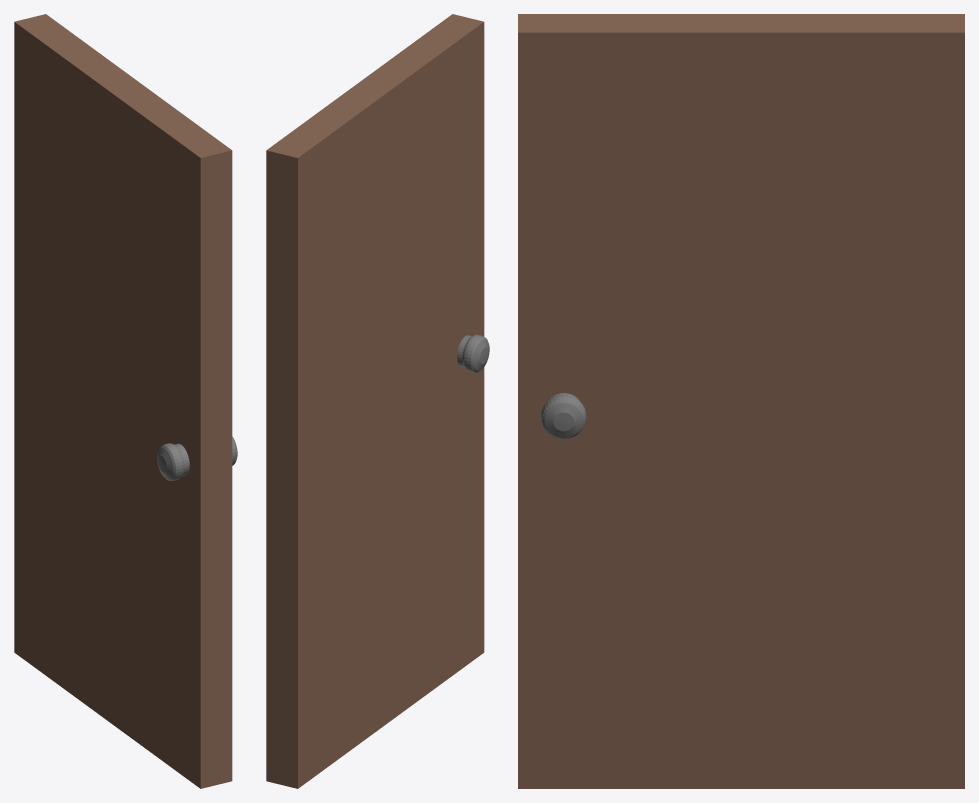
Rendered from door.fbx.
3 views of the same model, side by side, from view 1: azimuth 30°, elevation 25°; view 2: azimuth 150°, elevation 25°; view 3: azimuth 270°, elevation 25° (orthographic). The views are drawn at different scales.
Parts seen in each view (by area): view 1: Cube, Cylinder.001; view 2: Cube, Cylinder.001; view 3: Cube, Cylinder.001.
Part boxes in pixels (left/top/right/bottom): Cube: left=14, top=14, right=232, bottom=788; Cylinder.001: left=157, top=436, right=237, bottom=480; Cube: left=266, top=14, right=484, bottom=788; Cylinder.001: left=457, top=334, right=489, bottom=372; Cube: left=518, top=14, right=964, bottom=788; Cylinder.001: left=541, top=393, right=586, bottom=438.
Bounding box in the file's own units: 94.34 × 808 × 432.
